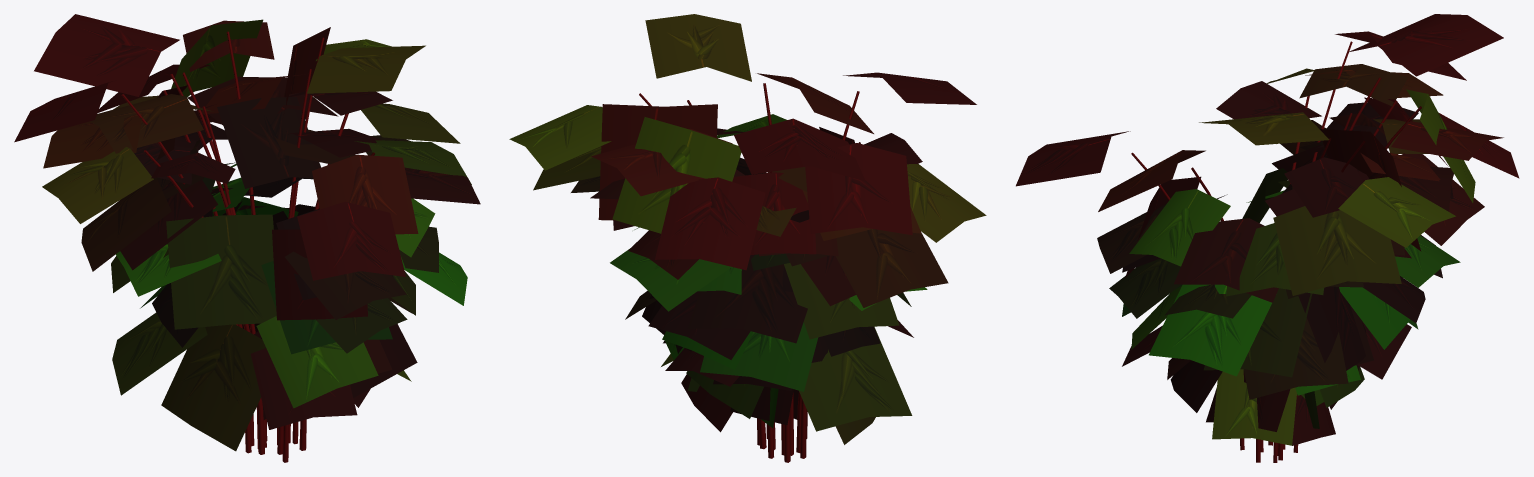
Rendered from veg_bamboo2_far.glb.
3 views of the same model, side by side, from view 1: azimuth 30°, elevation 25°; view 2: azimuth 150°, elevation 25°; view 3: azimuth 270°, elevation 25° (orthographic). The views are drawn at different scales.
Visible parts, largest first — view 1: bamboo_2; view 2: bamboo_2; view 3: bamboo_2.
Part boxes in pixels (bbox=[...]): bamboo_2: bbox=[14, 14, 480, 462]; bamboo_2: bbox=[509, 14, 986, 462]; bamboo_2: bbox=[1016, 14, 1519, 462].
Bounding box in the file's own units: 11.29 × 10.34 × 12.42.
2 materials, 1 textured.
